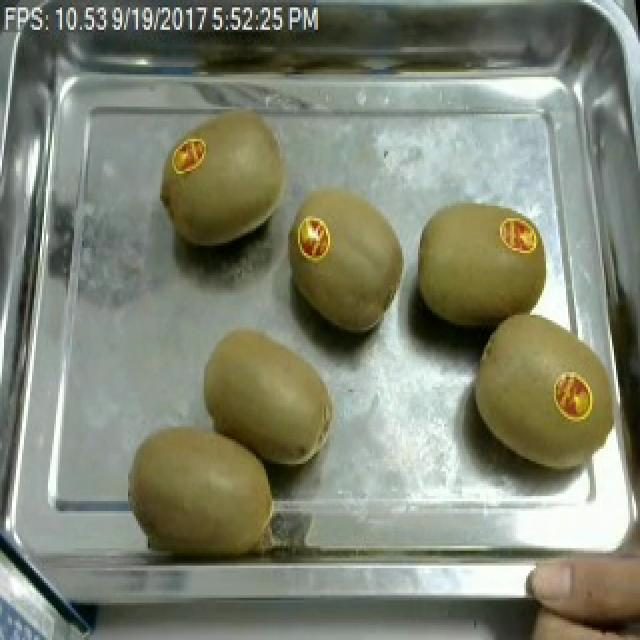Fruit: (464, 305, 626, 479), (122, 417, 284, 558), (196, 320, 342, 474), (156, 109, 300, 256), (286, 176, 412, 342), (408, 196, 554, 335)
